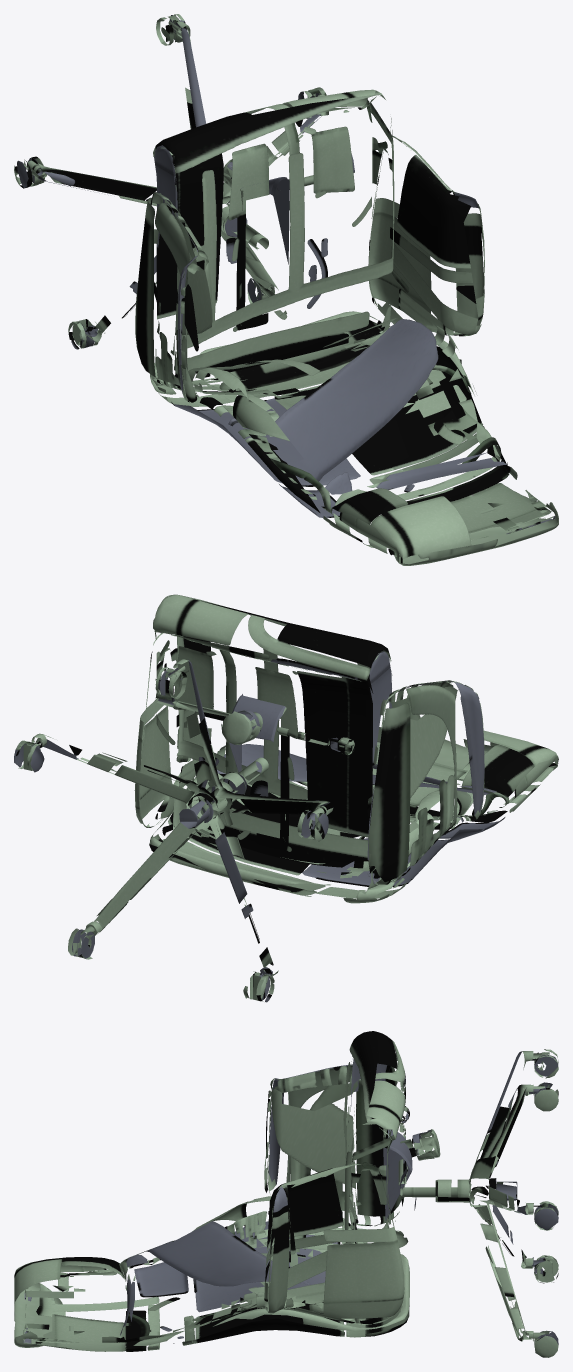
3 renders of one model, top to bottom at view 1: azimuth 30°, elevation 25°; view 2: azimuth 150°, elevation 25°; view 3: azimuth 270°, elevation 25°, orthographic. The views are drawn at different scales.
Bounding box in the file's own units: 0.6532 × 0.6467 × 1.17.
